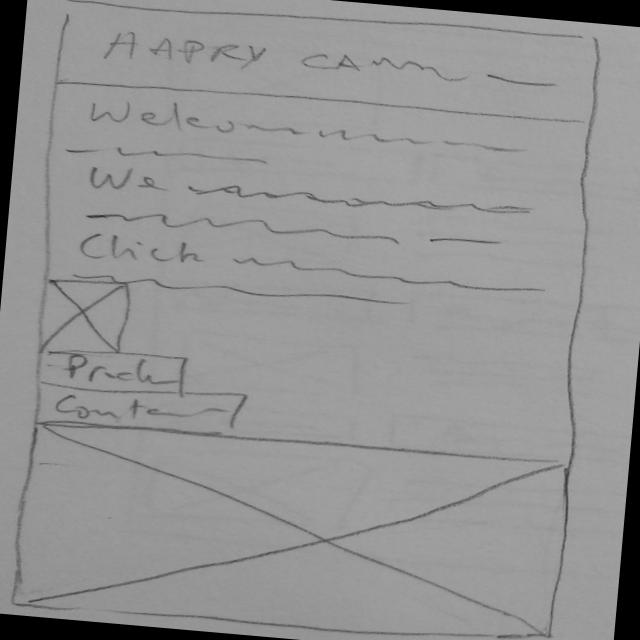button: (24, 372, 255, 442), (29, 342, 198, 401)
container: (0, 0, 616, 640)
image: (3, 411, 576, 640), (34, 274, 134, 357)
label: (86, 90, 550, 170), (88, 22, 476, 94), (67, 225, 222, 272), (80, 158, 180, 199)
text: (82, 199, 518, 261), (191, 171, 540, 234), (75, 268, 439, 318), (224, 248, 564, 300), (64, 132, 278, 176)
